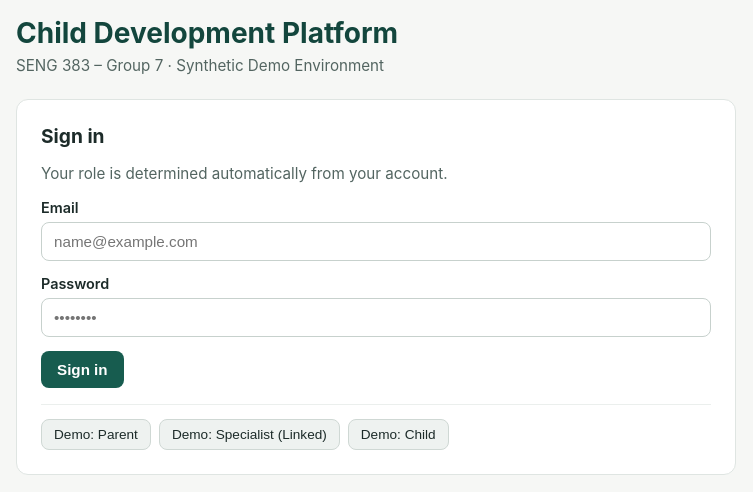
Test: Walking skeleton login and role screens › renders login fields without a role selector and fills synthetic demo credentials
Expected: the heading "Child Development Platform" is shown, [16,16,398,50]
Click the button "Demo: Parent" at (96, 434), box [41,419,151,450]
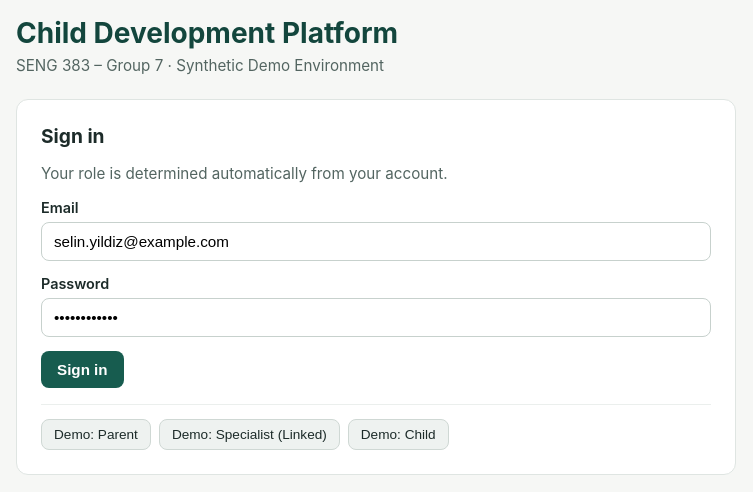
Expected: the field labelled "Email" holds "selin.yildiz@example.com", [41,222,711,261]
Expected: the password field labelled "Password" holds "Password123!", [41,298,711,337]
